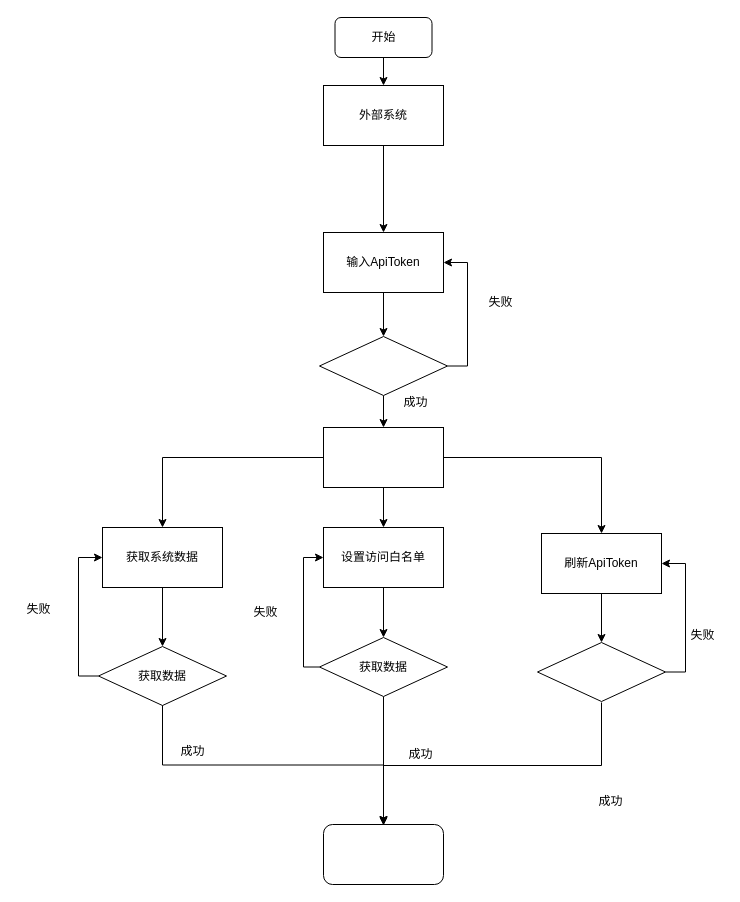
Some shapes in this 740 by 902 pixel diagram are drawn without their labels. The centre of each missing label's shape, as x and y in pixels:
更新数据: pixel 601 672
系统认证: pixel 383 366
结束: pixel 383 854
选择操作: pixel 383 457
